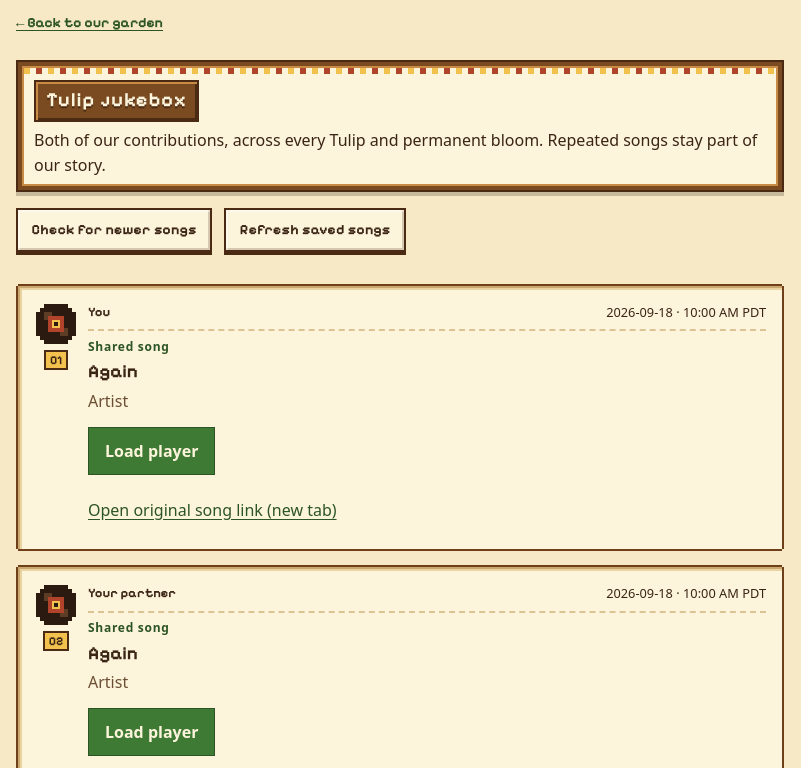
Test: keeps older paging cursor stable while newer posts arrive and retains content on failure
Click the button "Check for newer songs": x=114, y=230 [16,208,212,252]
(page scrolled)
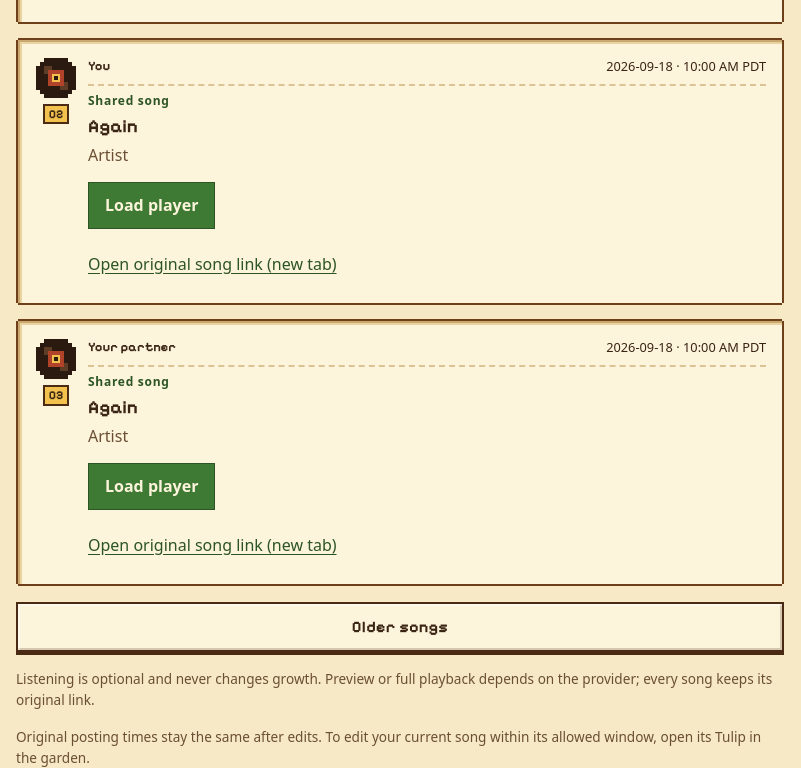
Check: the number of headings "Again" is 3
Click the button "Older songs": x=400, y=627 [16,602,784,652]
(page scrolled)
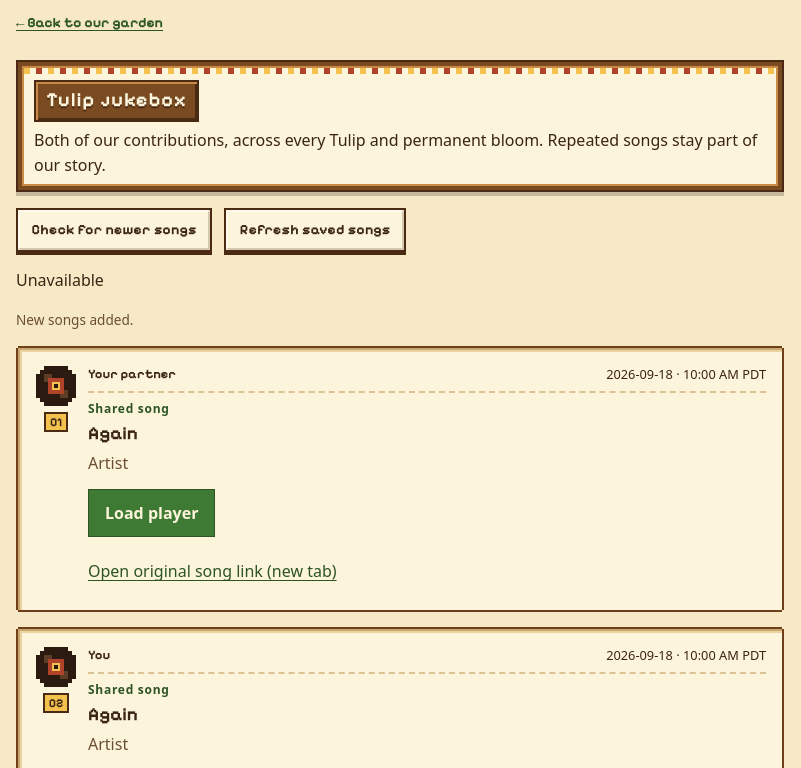
Check: the number of headings "Again" is 3
Check: the message "Unavailable" is shown, box [16,269,104,291]
